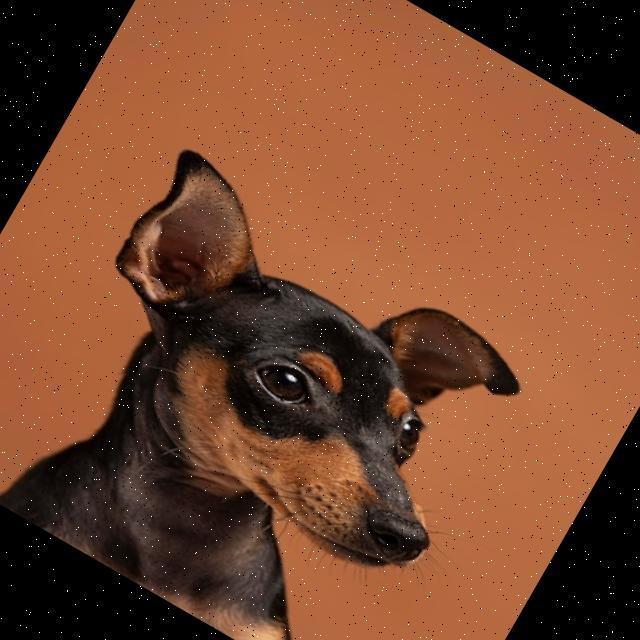Dog: (0, 140, 543, 640)
